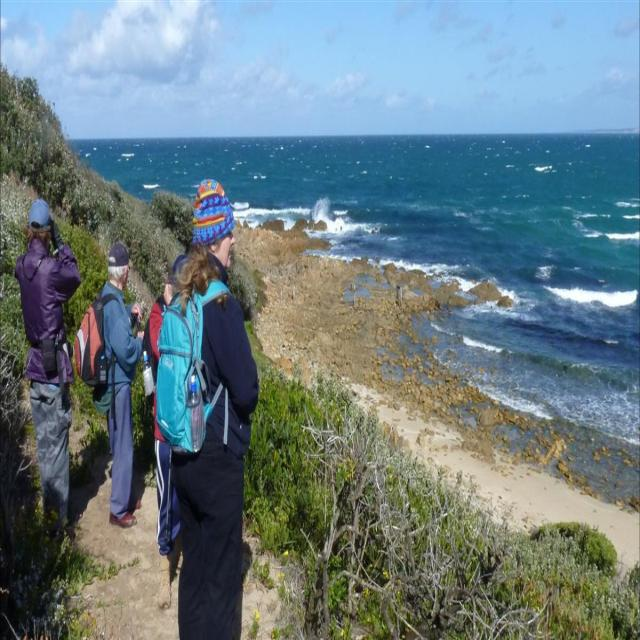body: (153, 170, 260, 639), (13, 193, 83, 544), (73, 235, 146, 531), (148, 252, 190, 613), (69, 429, 110, 525)
